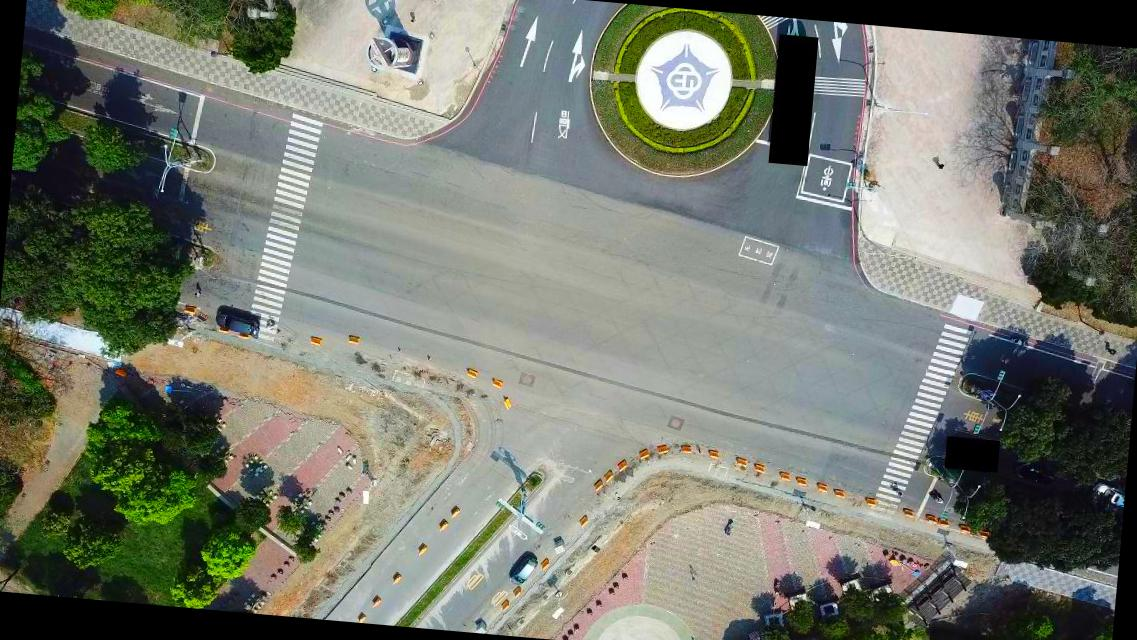vehicle: (211, 307, 262, 340), (1088, 482, 1124, 512), (506, 554, 536, 587)
